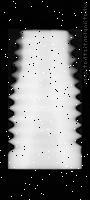Biomet 3i: (6, 28, 82, 169)
